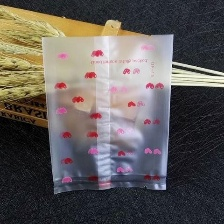snack: (35, 27, 182, 201)
